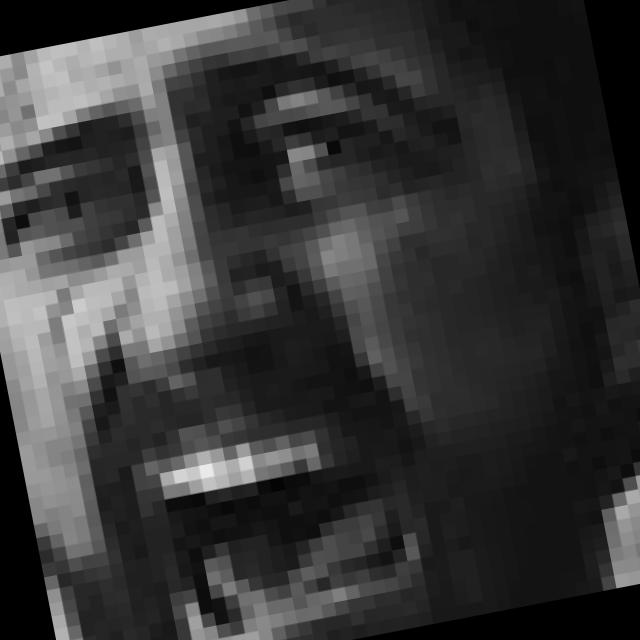angry: (0, 23, 545, 640)
